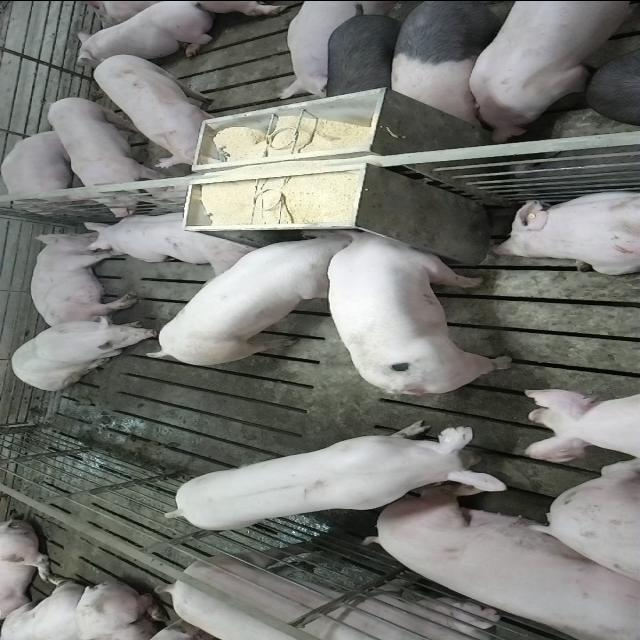Feeding: (324, 219, 516, 391), (140, 231, 354, 367)
Lateral_lying: (365, 498, 639, 640), (29, 230, 138, 330)
Sitting: (7, 316, 158, 390)
Standing: (164, 419, 508, 533), (166, 542, 516, 640), (465, 1, 640, 140), (92, 51, 233, 169), (389, 2, 507, 126), (44, 95, 162, 216), (322, 4, 410, 110), (520, 384, 638, 462)
Sternal_lying: (490, 186, 640, 274), (83, 207, 263, 273), (72, 2, 222, 61), (2, 127, 85, 207)
